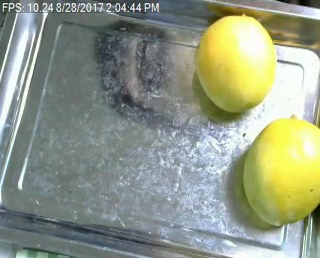Mango: (239, 118, 320, 227), (194, 11, 276, 113)
